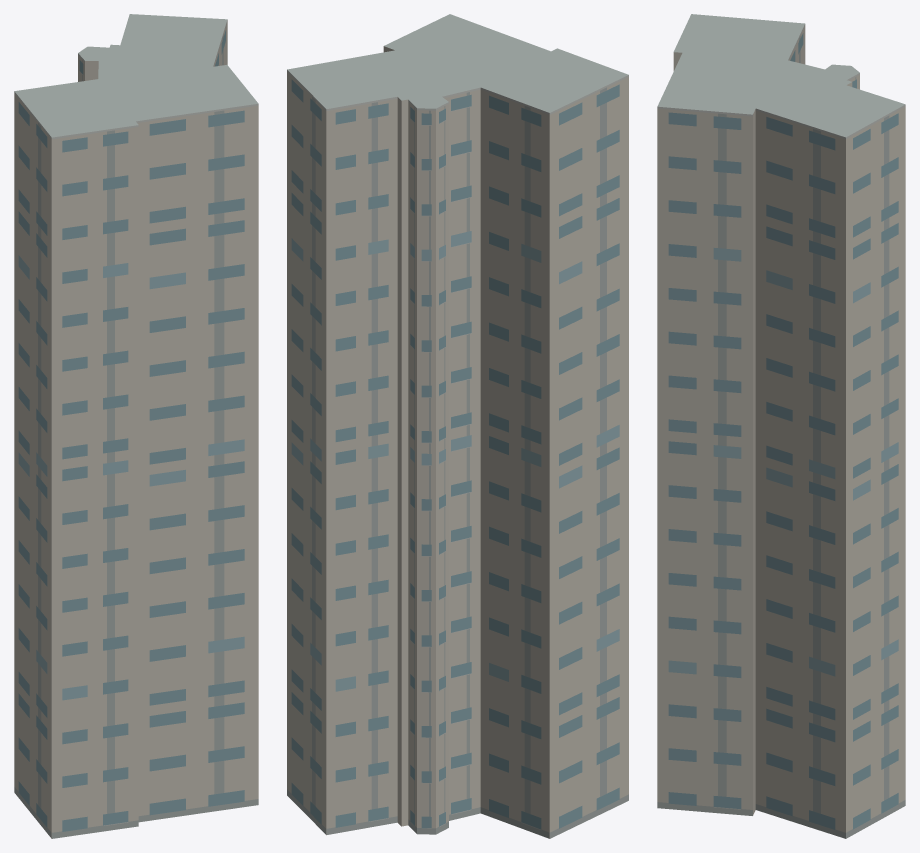
Rendered from residential-d970bfdf-e400-4812-8930-f3eb6589958c.glb.
3 views of the same model, side by side, from view 1: azimuth 30°, elevation 25°; view 2: azimuth 150°, elevation 25°; view 3: azimuth 270°, elevation 25° (orthographic). The views are drawn at different scales.
Visible parts, largest first — view 1: residential-d970bfdf-e400-4812-8930-f3eb6589958c.tmp; view 2: residential-d970bfdf-e400-4812-8930-f3eb6589958c.tmp; view 3: residential-d970bfdf-e400-4812-8930-f3eb6589958c.tmp.
Boxes of the visible parts, x1,y1,x2,y2 form: residential-d970bfdf-e400-4812-8930-f3eb6589958c.tmp: (14, 14, 258, 838); residential-d970bfdf-e400-4812-8930-f3eb6589958c.tmp: (287, 14, 628, 838); residential-d970bfdf-e400-4812-8930-f3eb6589958c.tmp: (657, 14, 905, 838).
Size of the model in its own units: 33.98 by 90 by 28.89.
